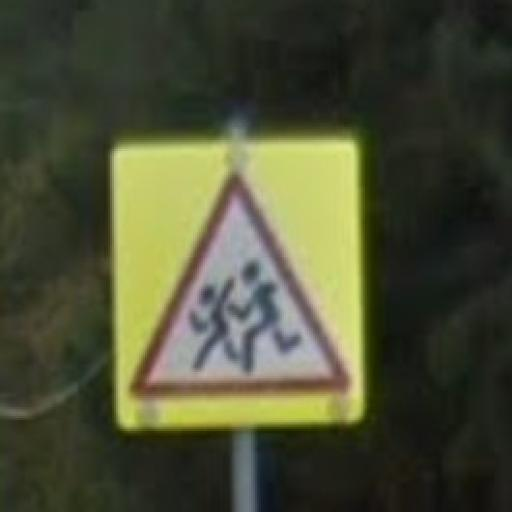traffic_sign: (125, 168, 357, 402)
